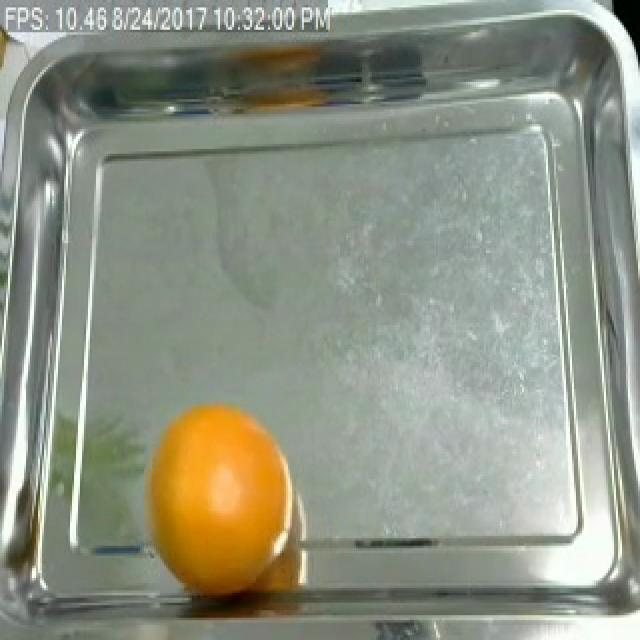Fruit: (134, 400, 302, 616), (0, 2, 18, 112)
